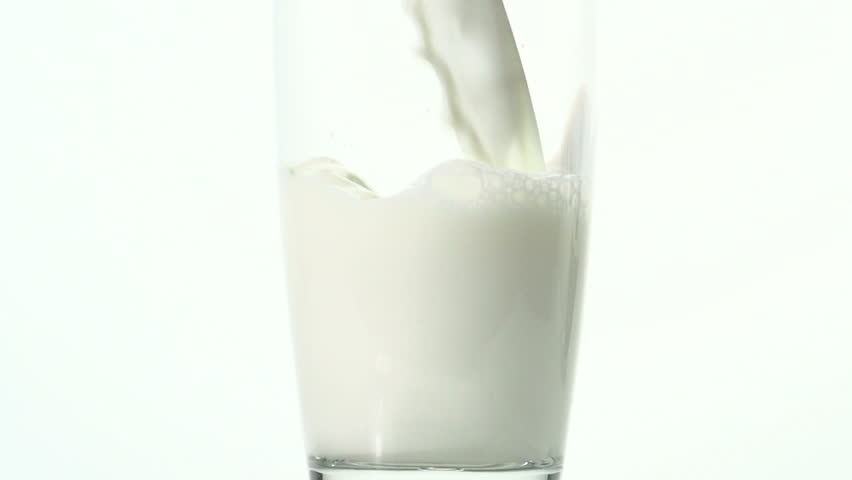glass of milk: (263, 1, 598, 473)
